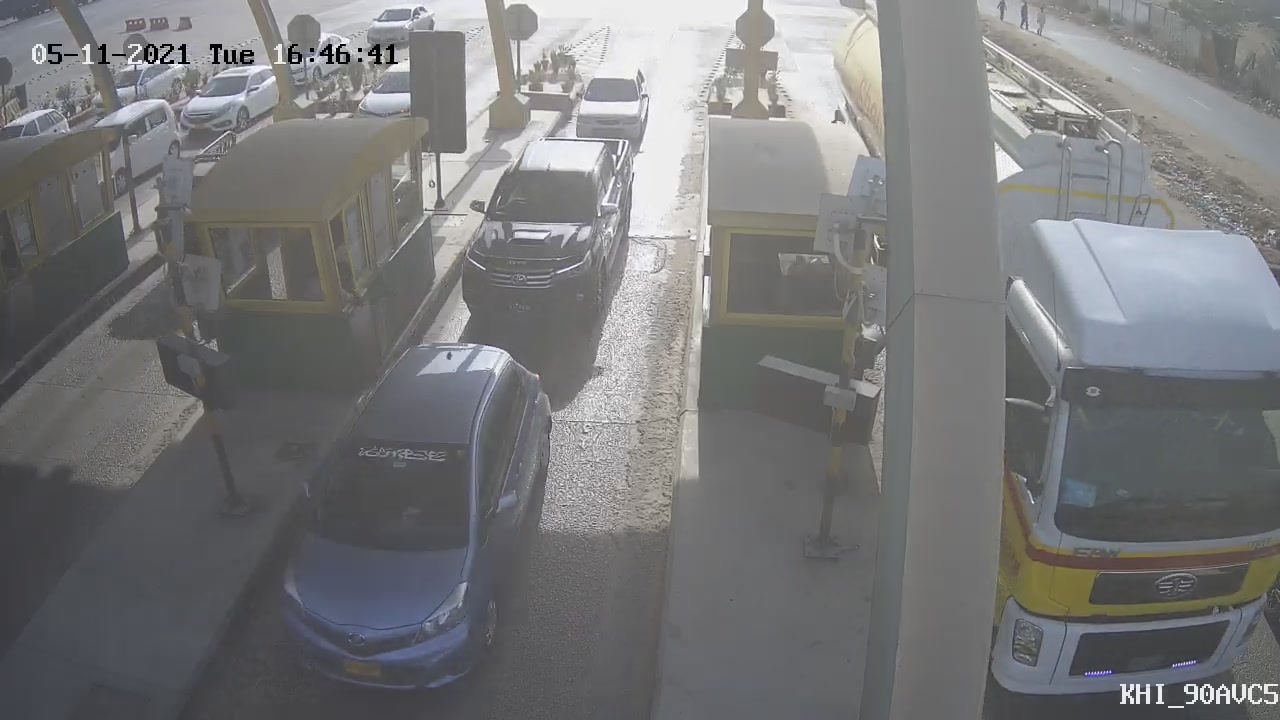F1: (435, 120, 653, 349), (564, 49, 665, 164)
